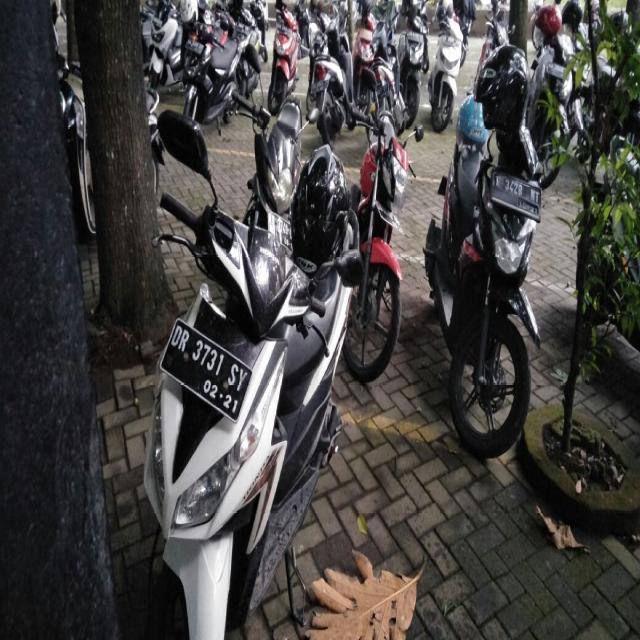plate: (159, 320, 253, 422), (491, 170, 542, 217)
